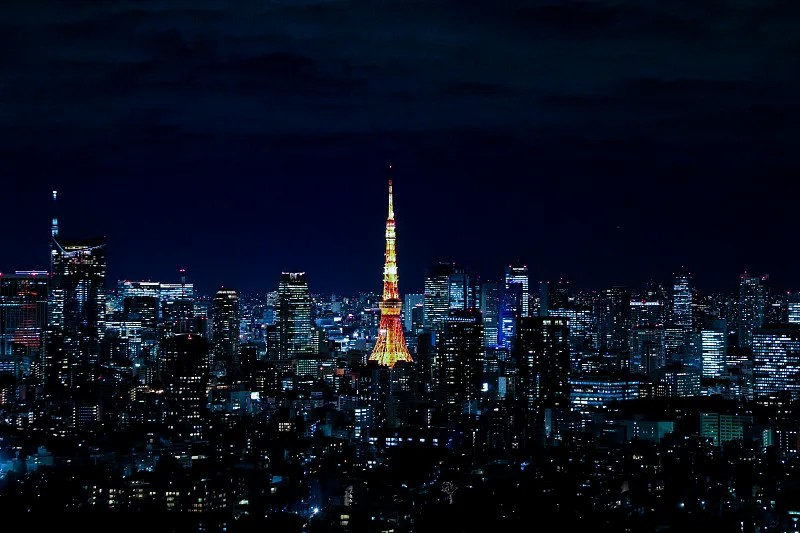Tokyo: (368, 163, 417, 364)
